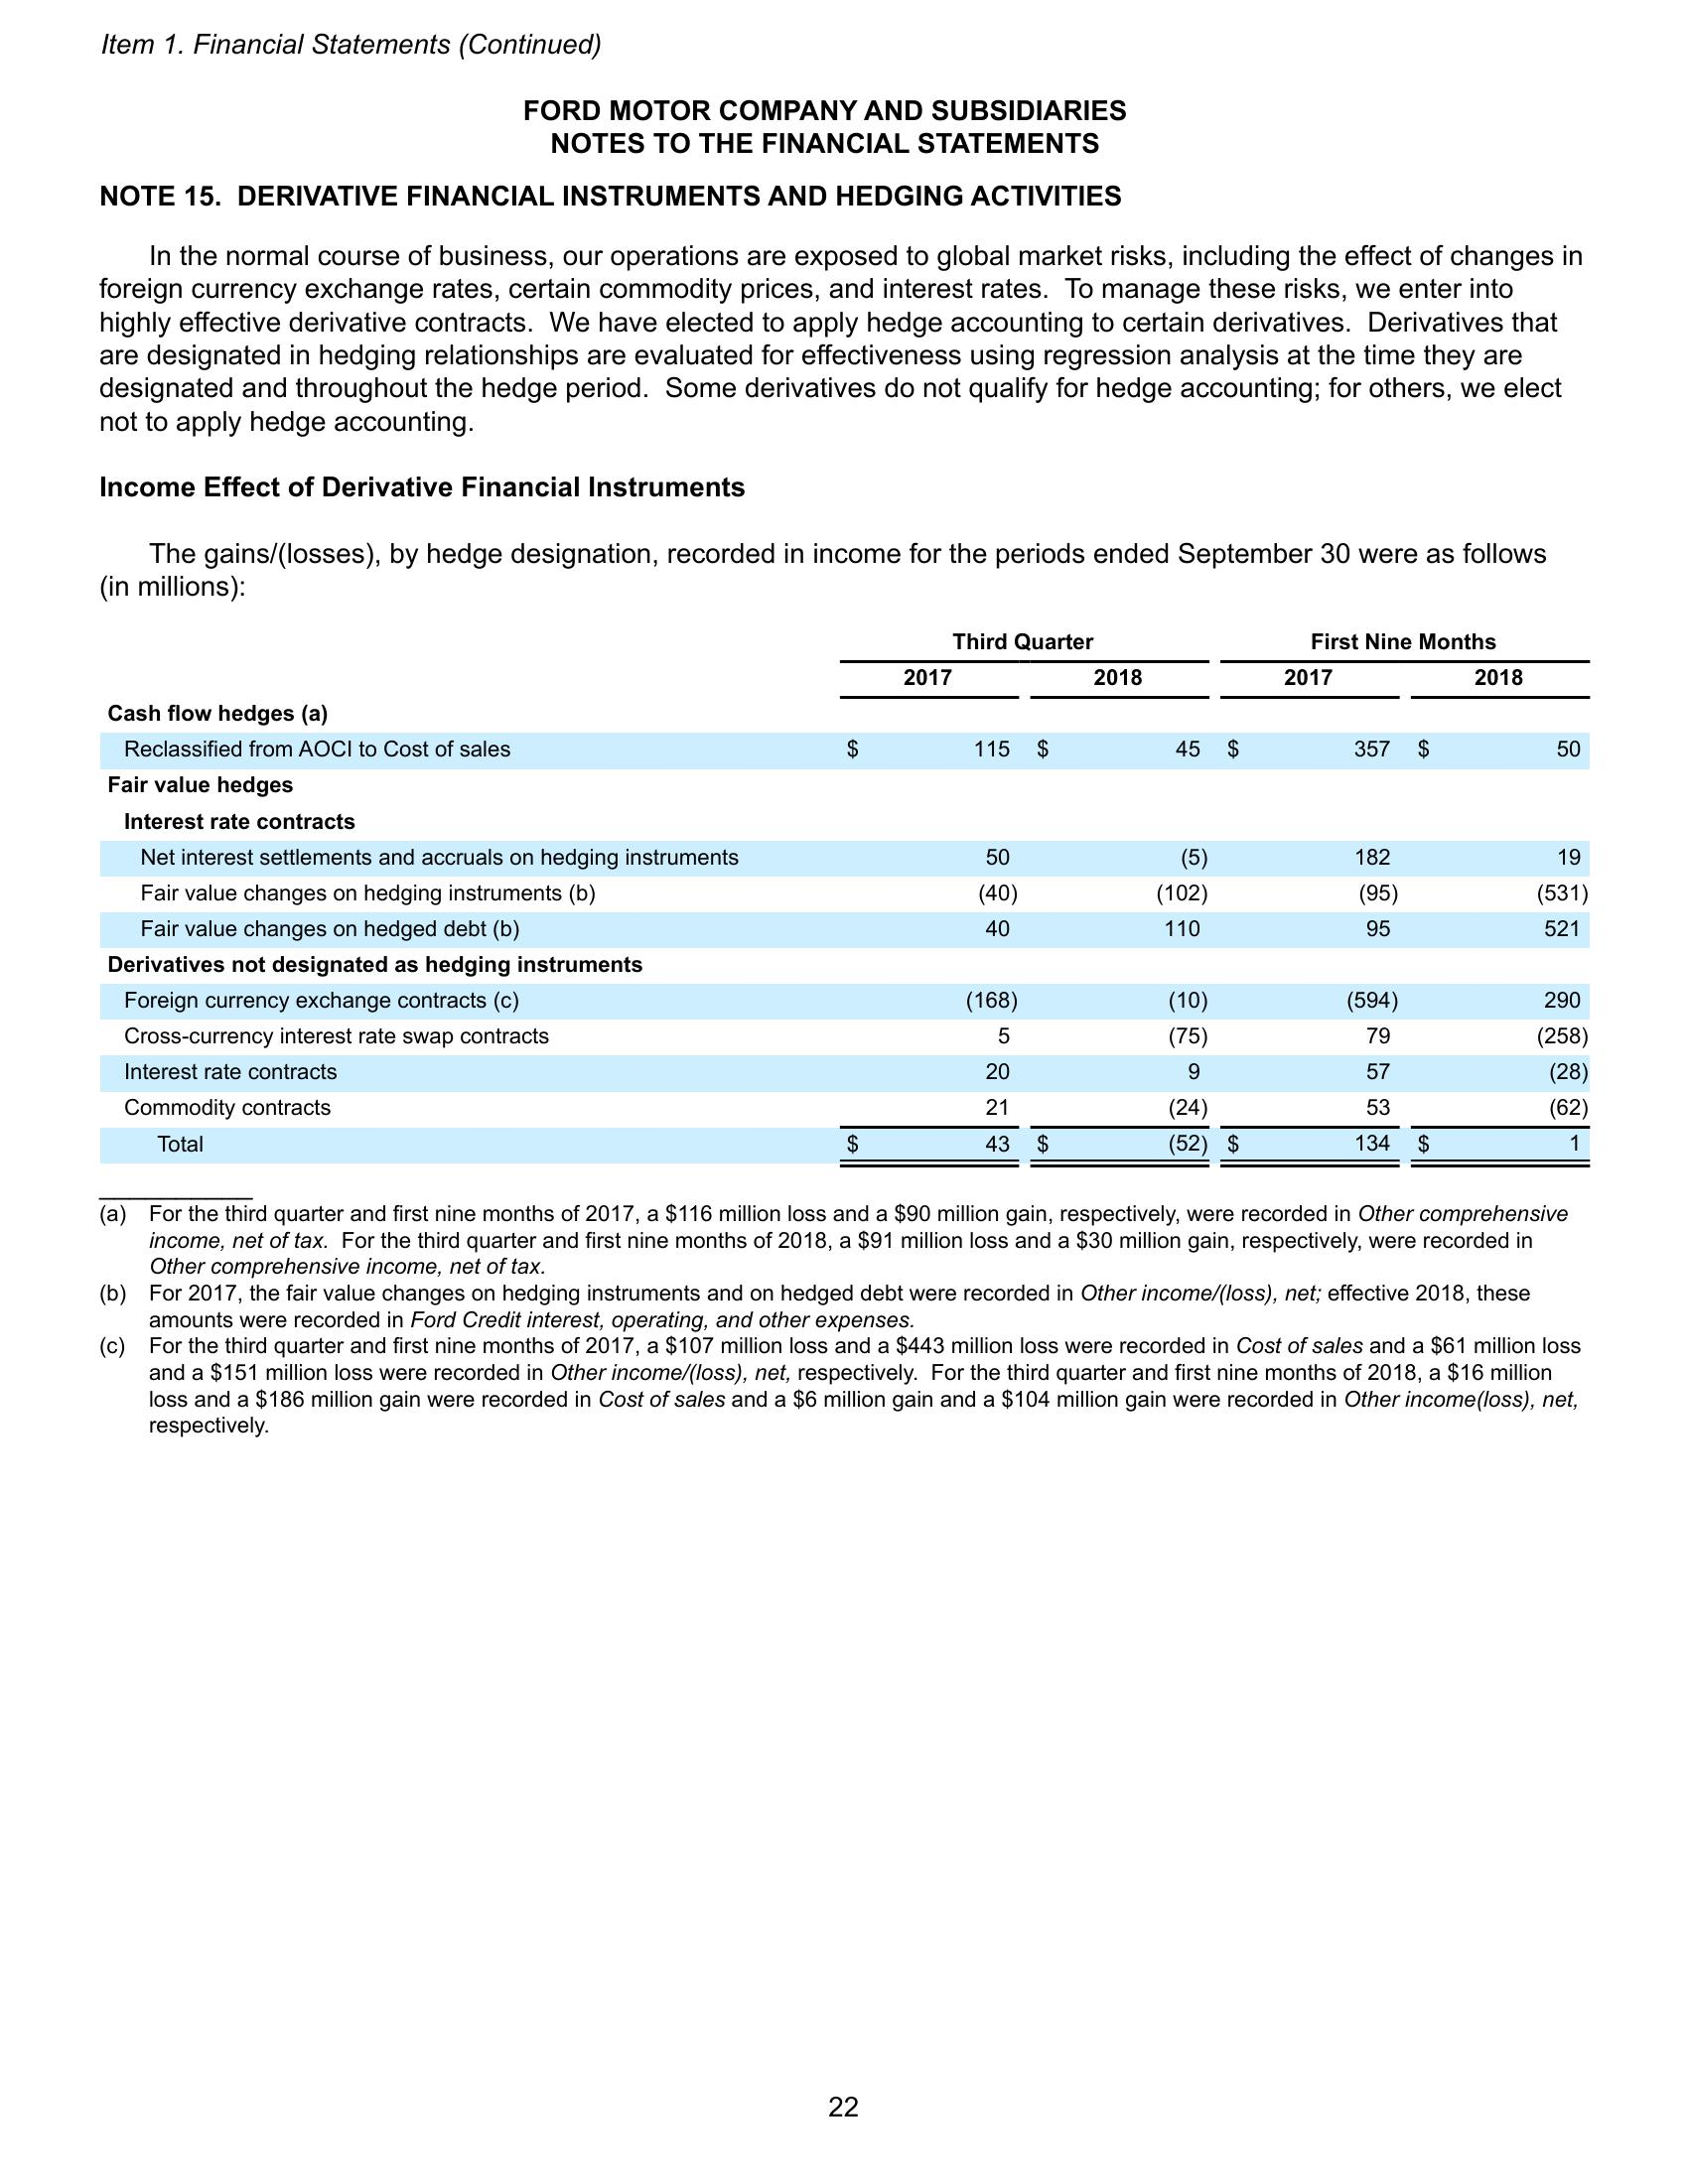table: (94, 626, 1601, 1174)
